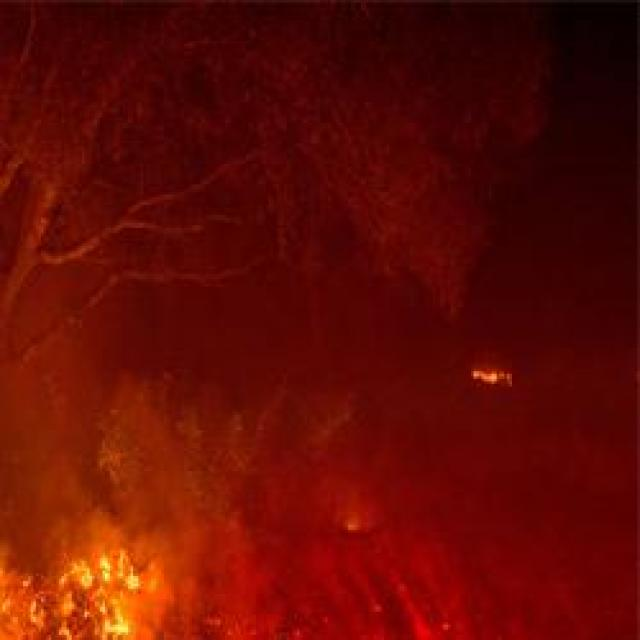fire: (0, 502, 160, 640), (468, 360, 517, 396)
